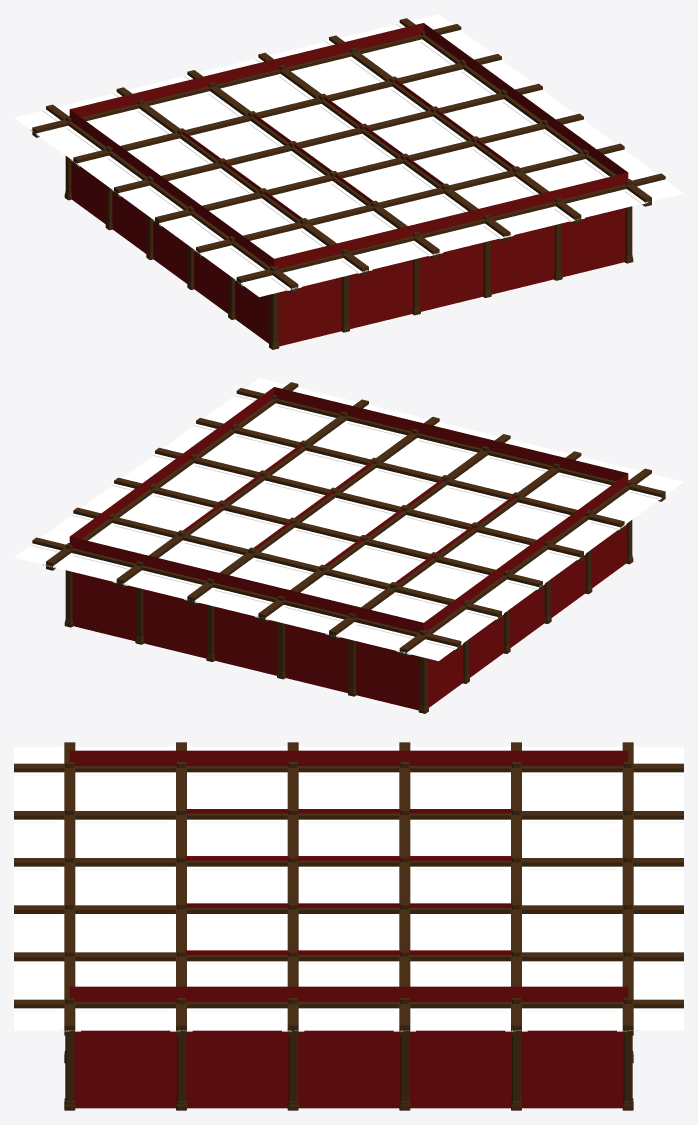
File: gallery3.glb
The picture shows the model from 3 angles, top to bottom: view 1: azimuth 30°, elevation 25°; view 2: azimuth 150°, elevation 25°; view 3: azimuth 270°, elevation 25°; orthographic projection. The views are drawn at different scales.
Visible parts, largest first — view 1: ceiling, outerWalls, beams, beams.001, collumn, walls; view 2: ceiling, outerWalls, beams, beams.001, collumn, walls; view 3: ceiling, outerWalls, beams, beams.001, collumn, walls.
Boxes of the visible parts, box(x1,y1,x2,y2) form: ceiling: box(14, 14, 683, 297); outerWalls: box(69, 23, 628, 346); beams: box(32, 18, 665, 292); beams.001: box(30, 20, 667, 290); collumn: box(64, 31, 633, 349); walls: box(181, 79, 514, 219); ceiling: box(14, 378, 683, 661); outerWalls: box(69, 387, 628, 710); beams: box(32, 382, 665, 656); beams.001: box(30, 384, 667, 654); collumn: box(64, 395, 633, 713); walls: box(182, 442, 515, 583); ceiling: box(14, 747, 683, 1030); outerWalls: box(69, 750, 628, 1108); beams: box(14, 742, 683, 1035); beams.001: box(14, 746, 683, 1031); collumn: box(64, 760, 633, 1110); walls: box(181, 809, 516, 954).
Bounding box in the file's own units: 60 × 12 × 60.
